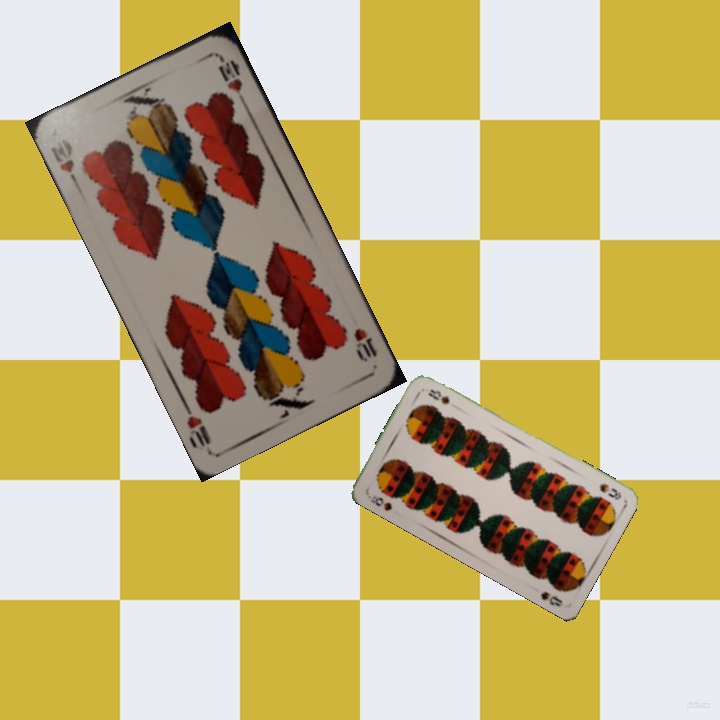H10: (46, 134, 83, 191), (349, 323, 380, 365)
S8: (363, 489, 394, 514), (595, 479, 624, 502)
